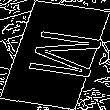M_E: (8, 27, 102, 83)
